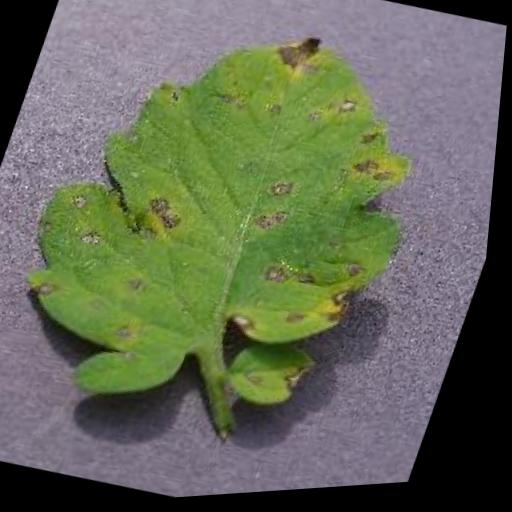Septoria: (0, 0, 470, 464)
